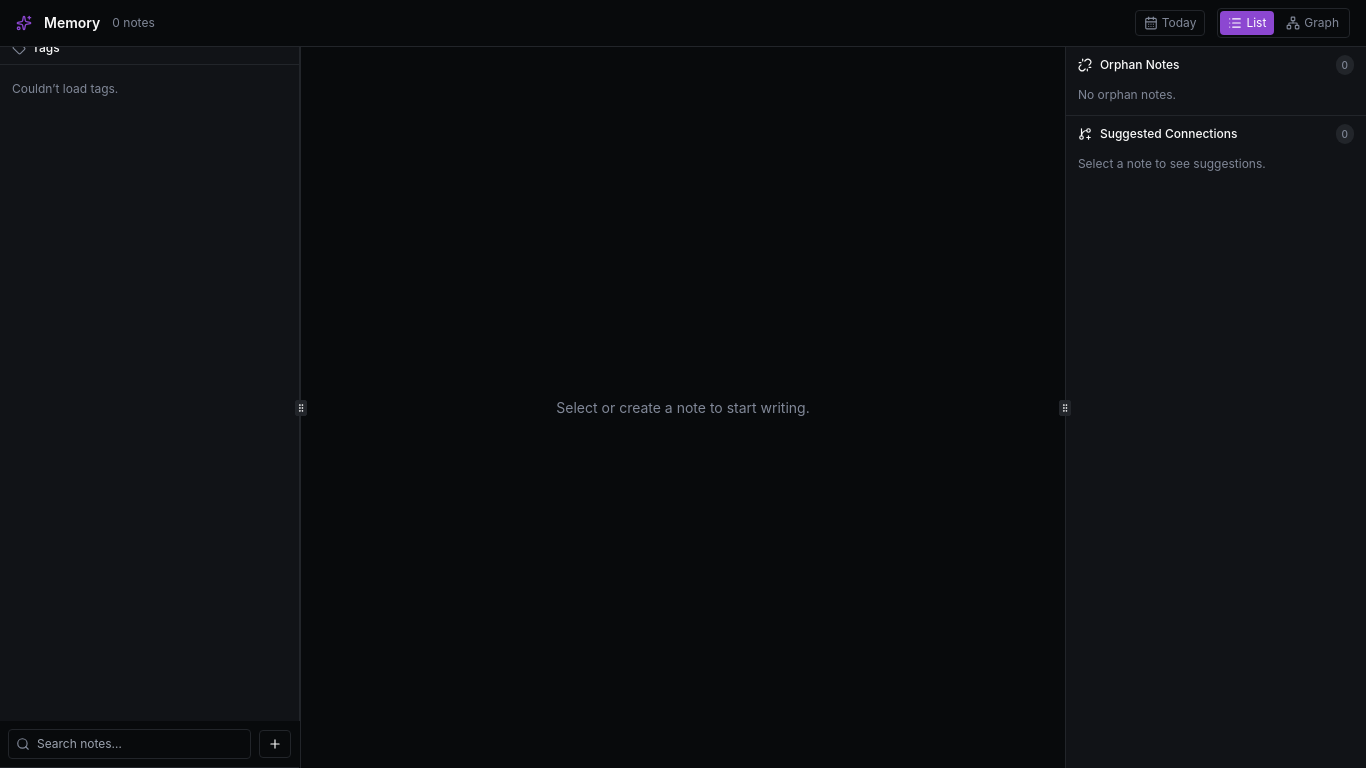
Test case: MemoryRoom — Stage-4 UX › renders ErrorBanner after create_memory rejects
The image size is (1366, 768).
(page scrolled)
Click the button named "create note" at [275, 744], box top-left (259, 730), bottom-right (291, 758)
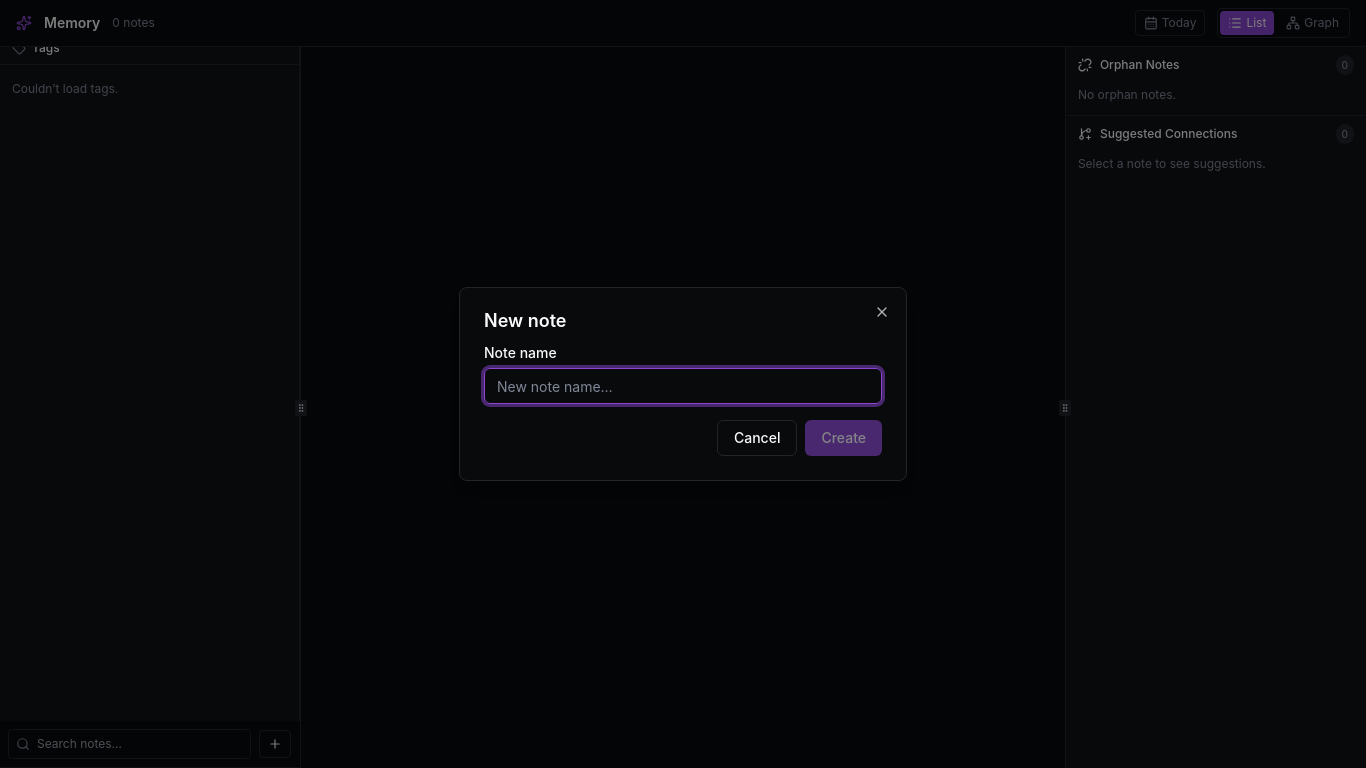
Type "my-note" into the field at [683, 386], box top-left (484, 368), bottom-right (882, 404)
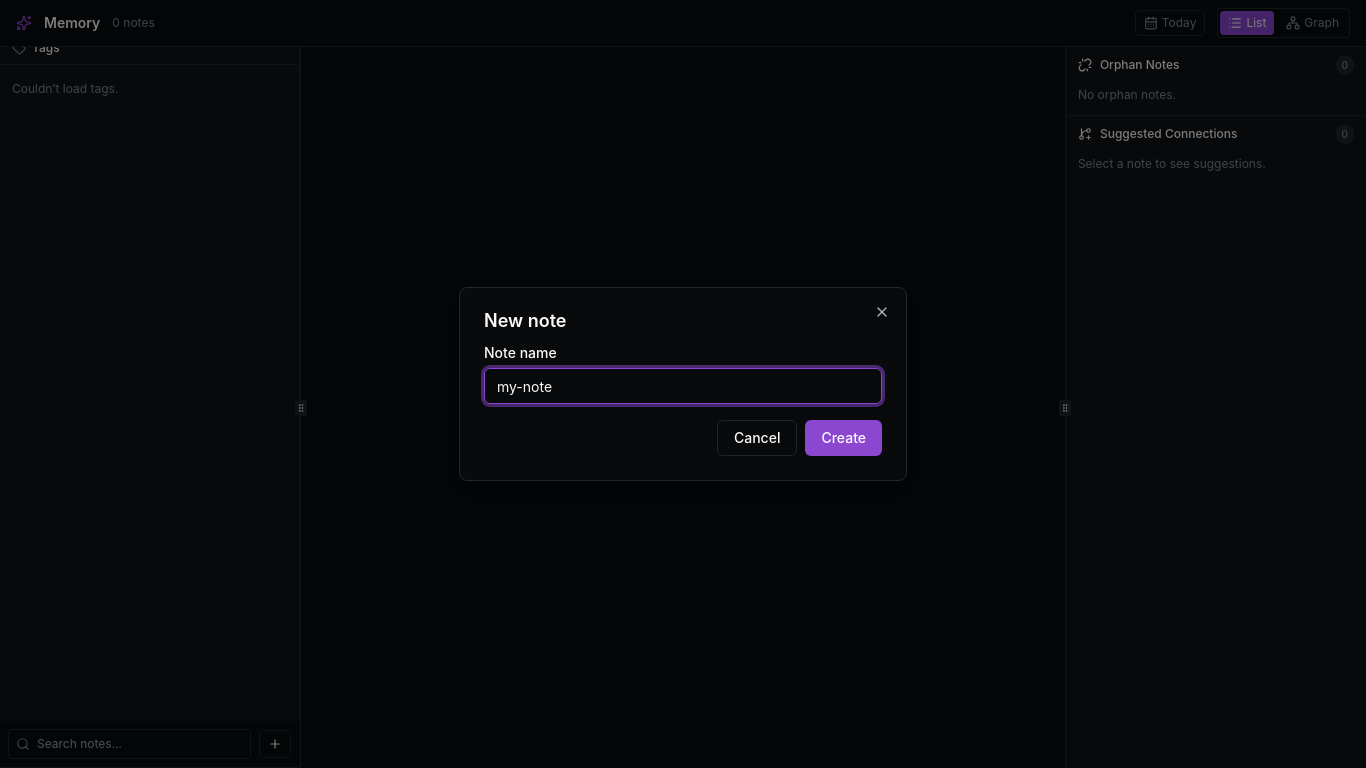
Click the button "Create" at [844, 438], box top-left (805, 420), bottom-right (882, 456)
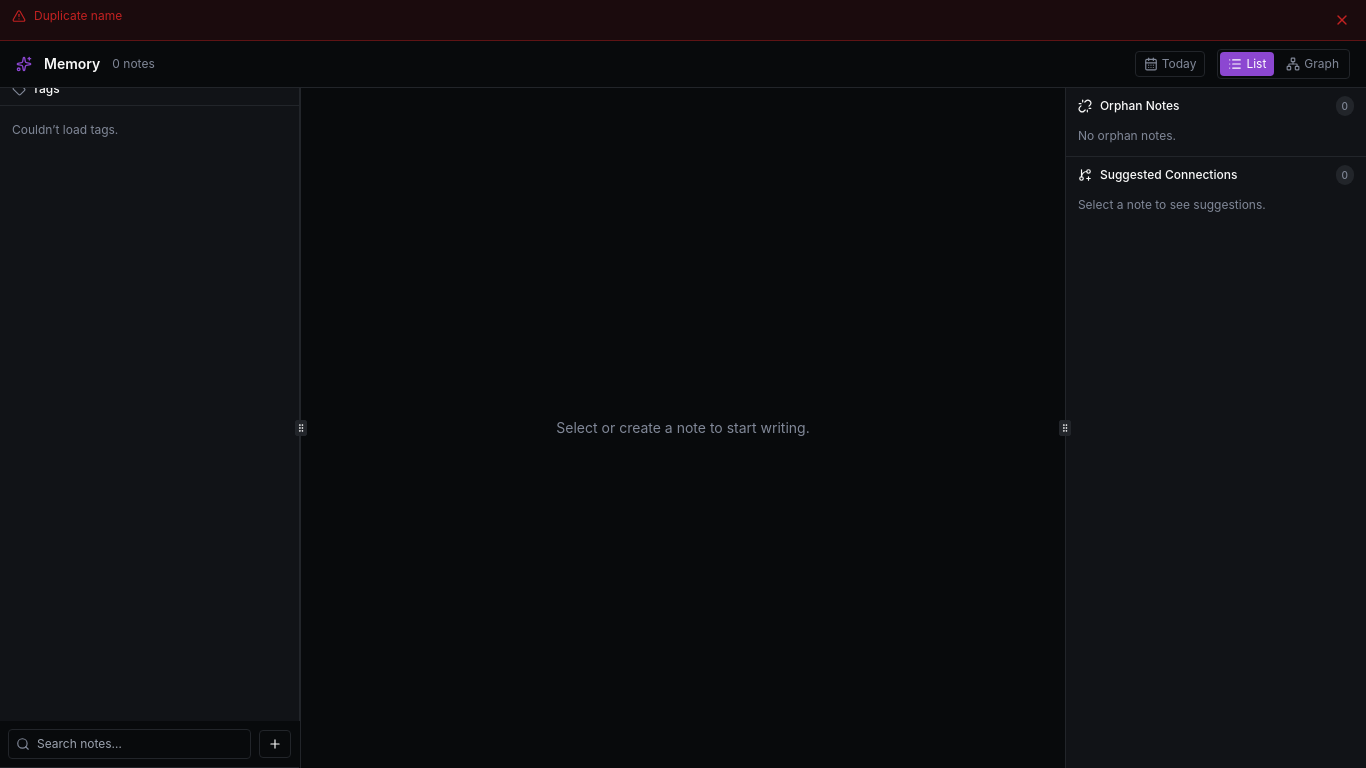
Expected: the message "Duplicate name" is shown, top-left (0, 0), bottom-right (1365, 41)
Expected: the text "Duplicate name" is shown, top-left (34, 8), bottom-right (122, 23)
